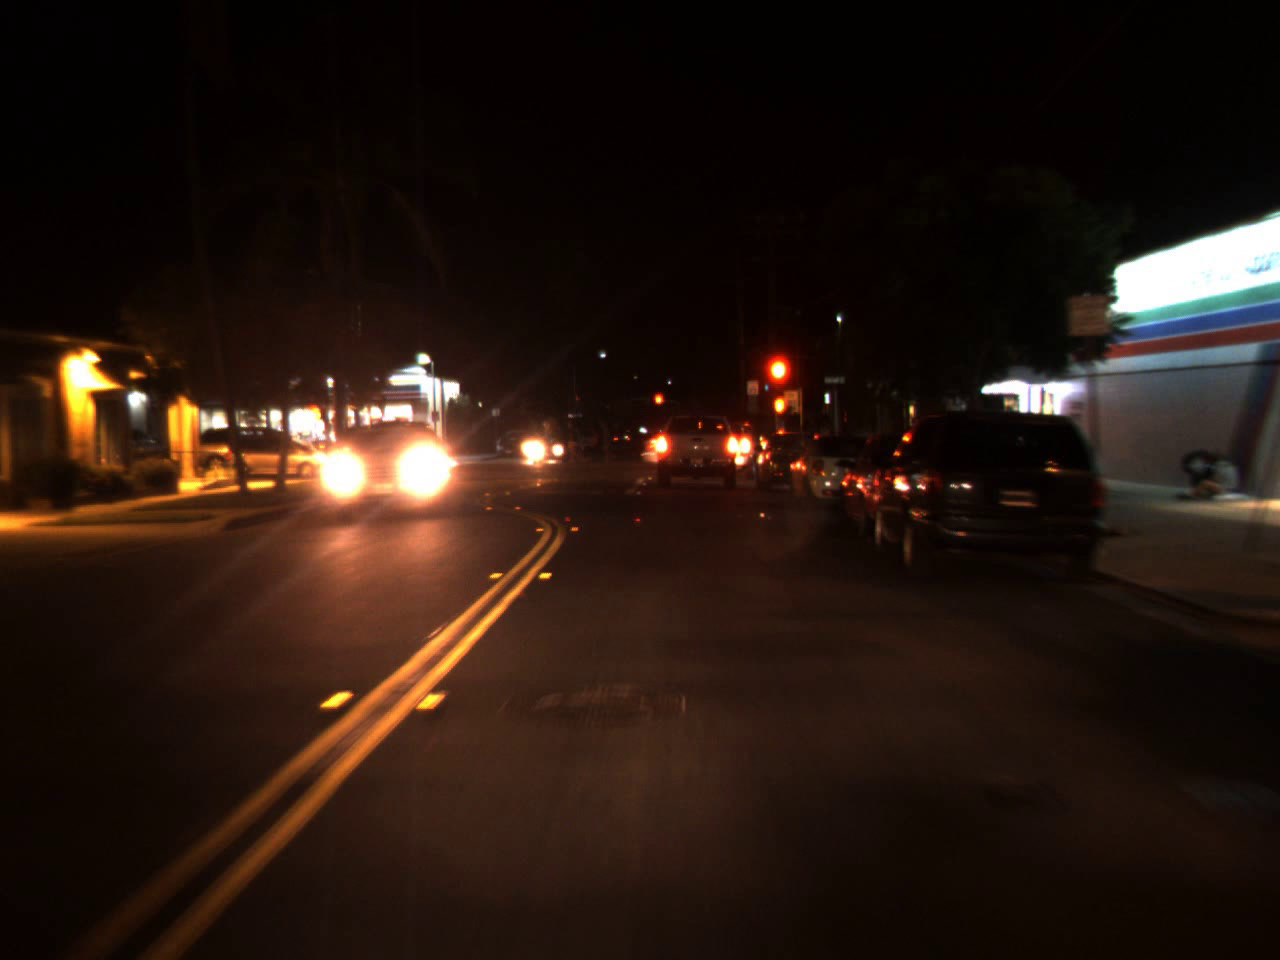stop: (760, 349, 796, 424), (651, 391, 666, 418)
